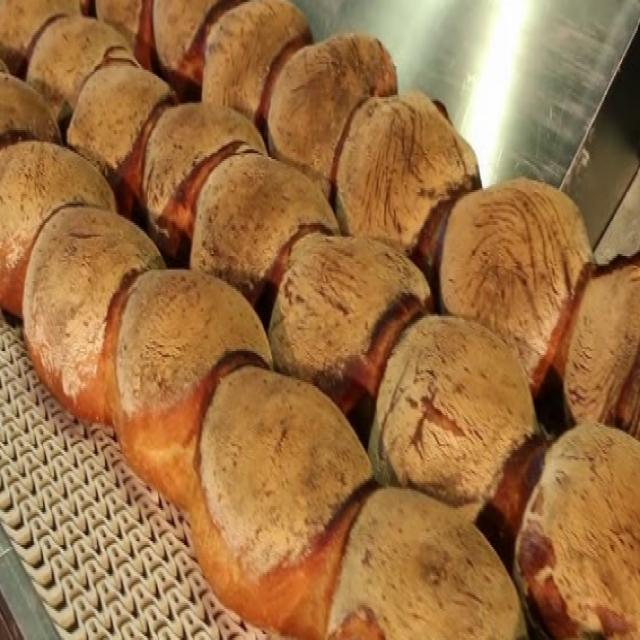Maltese-Bread: (183, 365, 371, 638), (116, 272, 269, 510), (369, 316, 538, 516), (438, 178, 591, 392), (24, 206, 165, 423), (328, 489, 527, 638), (269, 233, 430, 413), (514, 423, 639, 638), (334, 93, 480, 256), (191, 145, 339, 299), (266, 33, 397, 196), (0, 142, 116, 312), (138, 103, 266, 254), (202, 0, 312, 134), (67, 64, 175, 188)
